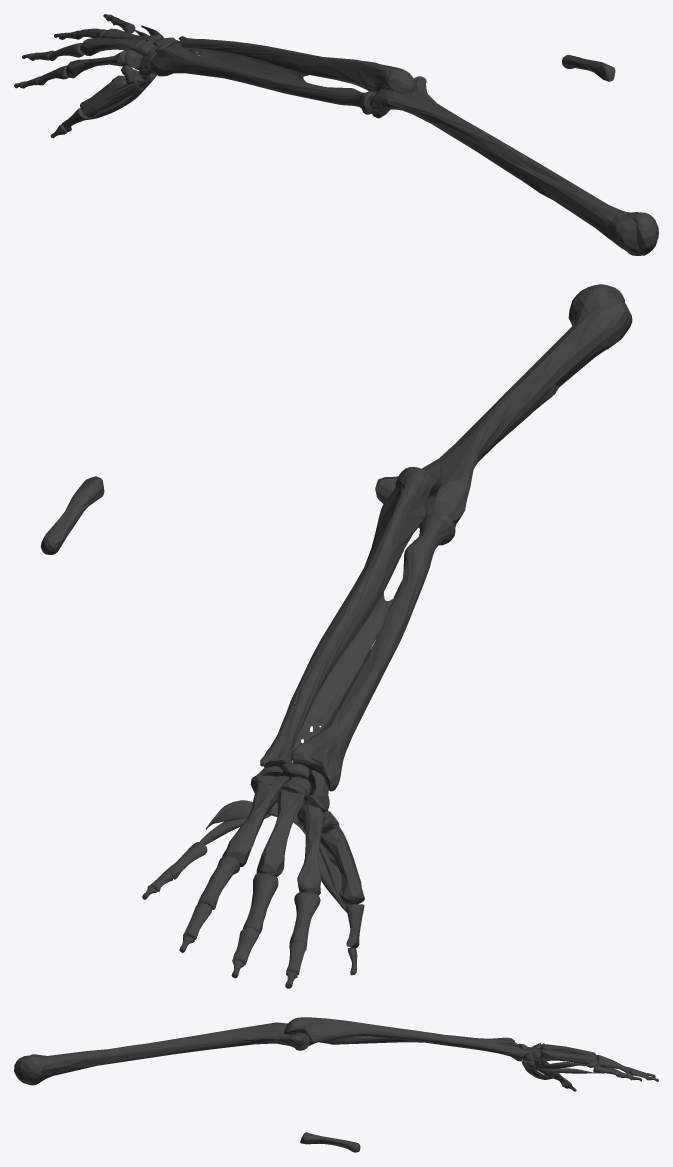
File: sharedassets10.glb
The picture shows the model from 3 angles, top to bottom: view 1: azimuth 30°, elevation 25°; view 2: azimuth 150°, elevation 25°; view 3: azimuth 270°, elevation 25°; orthographic projection. The views are drawn at different scales.
Parts seen in each view (by area): view 1: 0002_Humerus _arm, brachium_, R__000807, 0003_Ulna _forearm, antebrachium_, R__000808, 0004_Radius _forearm, antebrachium_, R__00080, 0031_Interosseous membrane _antebrachial_, R_, 0015_3rd Metacarpal, R__000833, 0023_5th Metacarpal, R__000835, 0011_2nd Metacarpal, R__000832, 0007_1st Metacarpal _pollex_, R__000831, 0032_Abductor pollicis brevis, R__100011, 0033_Opponens pollicis, R__1000295, 0019_4th Metacarpal, R__000834; view 2: 0002_Humerus _arm, brachium_, R__000807, 0003_Ulna _forearm, antebrachium_, R__000808, 0004_Radius _forearm, antebrachium_, R__00080, 0031_Interosseous membrane _antebrachial_, R_, 0015_3rd Metacarpal, R__000833, 0019_4th Metacarpal, R__000834, 0011_2nd Metacarpal, R__000832, 0023_5th Metacarpal, R__000835, 0007_1st Metacarpal _pollex_, R__000831, 0014_3rd Proximal phalanx _hand_, R__000820, 0018_4th Proximal phalanx _hand_, R__000829; view 3: 0002_Humerus _arm, brachium_, R__000807, 0003_Ulna _forearm, antebrachium_, R__000808, 0004_Radius _forearm, antebrachium_, R__00080, 0019_4th Metacarpal, R__000834, 0023_5th Metacarpal, R__000835, 0015_3rd Metacarpal, R__000833, 0001_Flexor digiti minimi brevis _hand_, R__1, 0034_Opponens digiti minimi _hand_, R__100029, 0018_4th Proximal phalanx _hand_, R__000829.
Boxes of the visible parts, x1,y1,x2,y2 form: 0002_Humerus _arm, brachium_, R__000807: [370, 76, 658, 255]; 0003_Ulna _forearm, antebrachium_, R__000808: [177, 36, 414, 93]; 0004_Radius _forearm, antebrachium_, R__00080: [150, 41, 376, 114]; 0031_Interosseous membrane _antebrachial_, R_: [184, 47, 309, 82]; 0015_3rd Metacarpal, R__000833: [80, 37, 145, 55]; 0023_5th Metacarpal, R__000835: [562, 54, 615, 81]; 0011_2nd Metacarpal, R__000832: [66, 50, 128, 78]; 0007_1st Metacarpal _pollex_, R__000831: [80, 75, 128, 117]; 0032_Abductor pollicis brevis, R__100011: [85, 75, 156, 120]; 0033_Opponens pollicis, R__1000295: [90, 79, 146, 111]; 0019_4th Metacarpal, R__000834: [101, 28, 162, 43]; 0002_Humerus _arm, brachium_, R__000807: [375, 284, 632, 528]; 0003_Ulna _forearm, antebrachium_, R__000808: [260, 467, 436, 767]; 0004_Radius _forearm, antebrachium_, R__00080: [290, 513, 455, 791]; 0031_Interosseous membrane _antebrachial_, R_: [292, 592, 393, 750]; 0015_3rd Metacarpal, R__000833: [256, 789, 304, 877]; 0019_4th Metacarpal, R__000834: [222, 781, 279, 867]; 0011_2nd Metacarpal, R__000832: [297, 803, 325, 895]; 0023_5th Metacarpal, R__000835: [40, 476, 104, 554]; 0007_1st Metacarpal _pollex_, R__000831: [320, 828, 364, 904]; 0014_3rd Proximal phalanx _hand_, R__000820: [243, 873, 278, 934]; 0018_4th Proximal phalanx _hand_, R__000829: [197, 856, 239, 909]; 0002_Humerus _arm, brachium_, R__000807: [14, 1022, 309, 1085]; 0003_Ulna _forearm, antebrachium_, R__000808: [284, 1017, 529, 1061]; 0004_Radius _forearm, antebrachium_, R__00080: [319, 1035, 518, 1046]; 0019_4th Metacarpal, R__000834: [541, 1049, 598, 1067]; 0023_5th Metacarpal, R__000835: [300, 1132, 360, 1152]; 0015_3rd Metacarpal, R__000833: [540, 1044, 597, 1059]; 0001_Flexor digiti minimi brevis _hand_, R__1: [536, 1068, 598, 1073]; 0034_Opponens digiti minimi _hand_, R__100029: [538, 1062, 585, 1068]; 0018_4th Proximal phalanx _hand_, R__000829: [597, 1059, 630, 1074].
Bounding box in the file's own units: 0.1681 × 0.0744 × 0.3474.
Materials: 1 (1 with a texture image).
